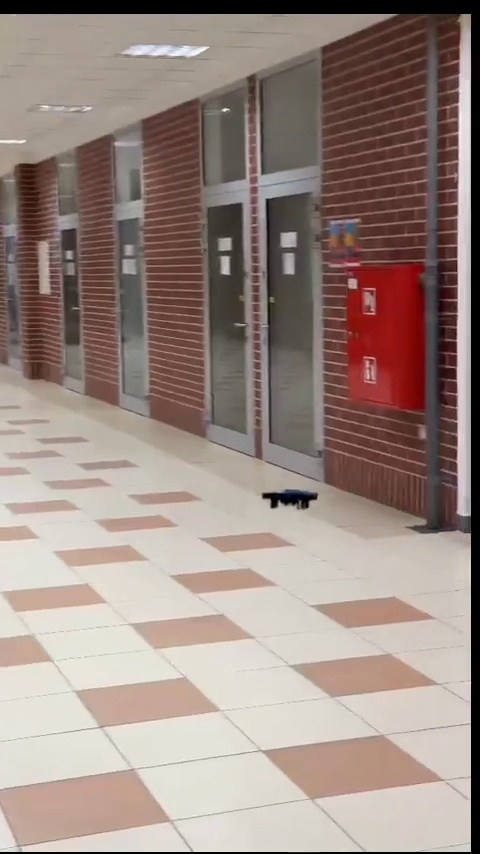drone: (260, 488, 319, 514)
